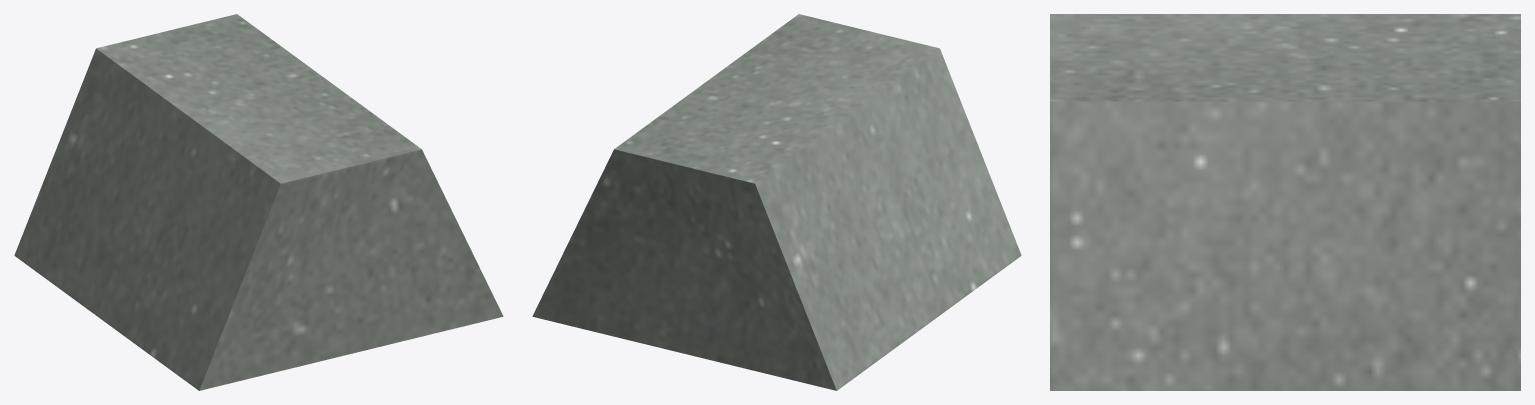
File: snowBarrier.glb
3 views of the same model, side by side, from view 1: azimuth 30°, elevation 25°; view 2: azimuth 150°, elevation 25°; view 3: azimuth 270°, elevation 25° (orthographic). The views are drawn at different scales.
Parts seen in each view (by area): view 1: Cylinder; view 2: Cylinder; view 3: Cylinder.
Part boxes in pixels (bbox=[...]): Cylinder: bbox=[14, 14, 503, 390]; Cylinder: bbox=[532, 14, 1021, 390]; Cylinder: bbox=[1050, 14, 1520, 390].
Bounding box in the file's own units: 1.9 × 1.12 × 2.
1 material, 1 textured.
